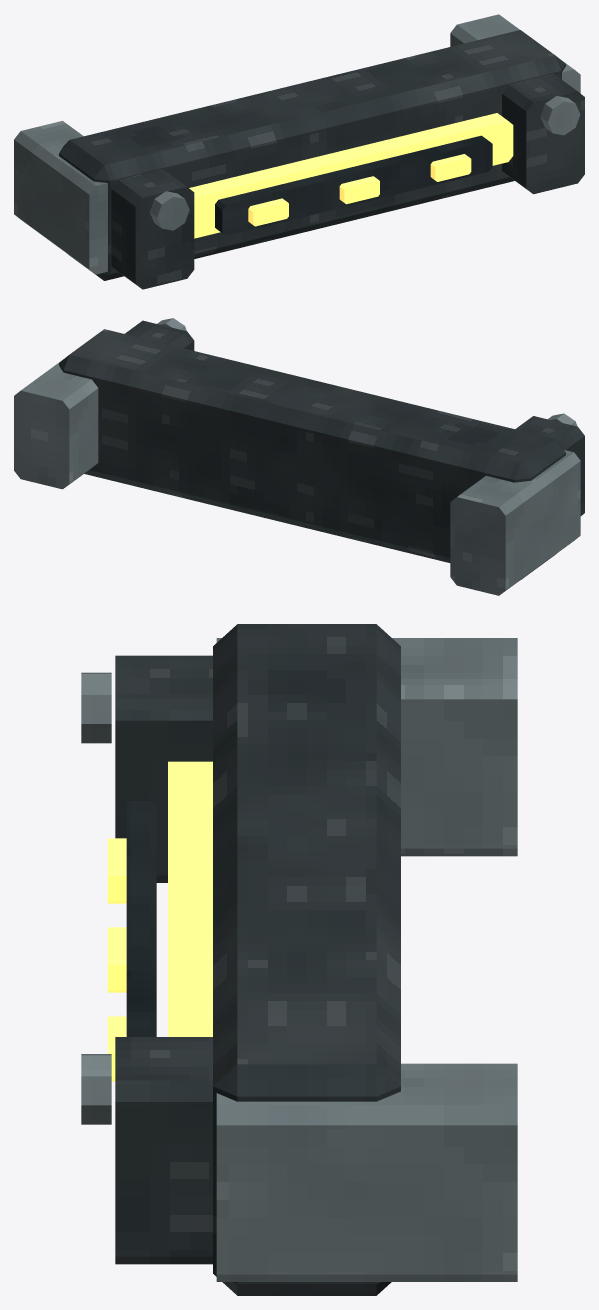
The model's file is capacitor_visor.glb.
3 renders of one model, top to bottom at view 1: azimuth 30°, elevation 25°; view 2: azimuth 150°, elevation 25°; view 3: azimuth 270°, elevation 25°, orthographic. The views are drawn at different scales.
Parts seen in each view (by area): view 1: capacitor_visor; view 2: capacitor_visor; view 3: capacitor_visor.
Boxes of the visible parts, x1,y1,x2,y2 form: capacitor_visor: (14,14,584,289); capacitor_visor: (14,318,584,595); capacitor_visor: (81,624,517,1295).
Size of the model in its own units: 0.151 by 0.034 by 0.058.
Materials: 4 (3 with a texture image).
